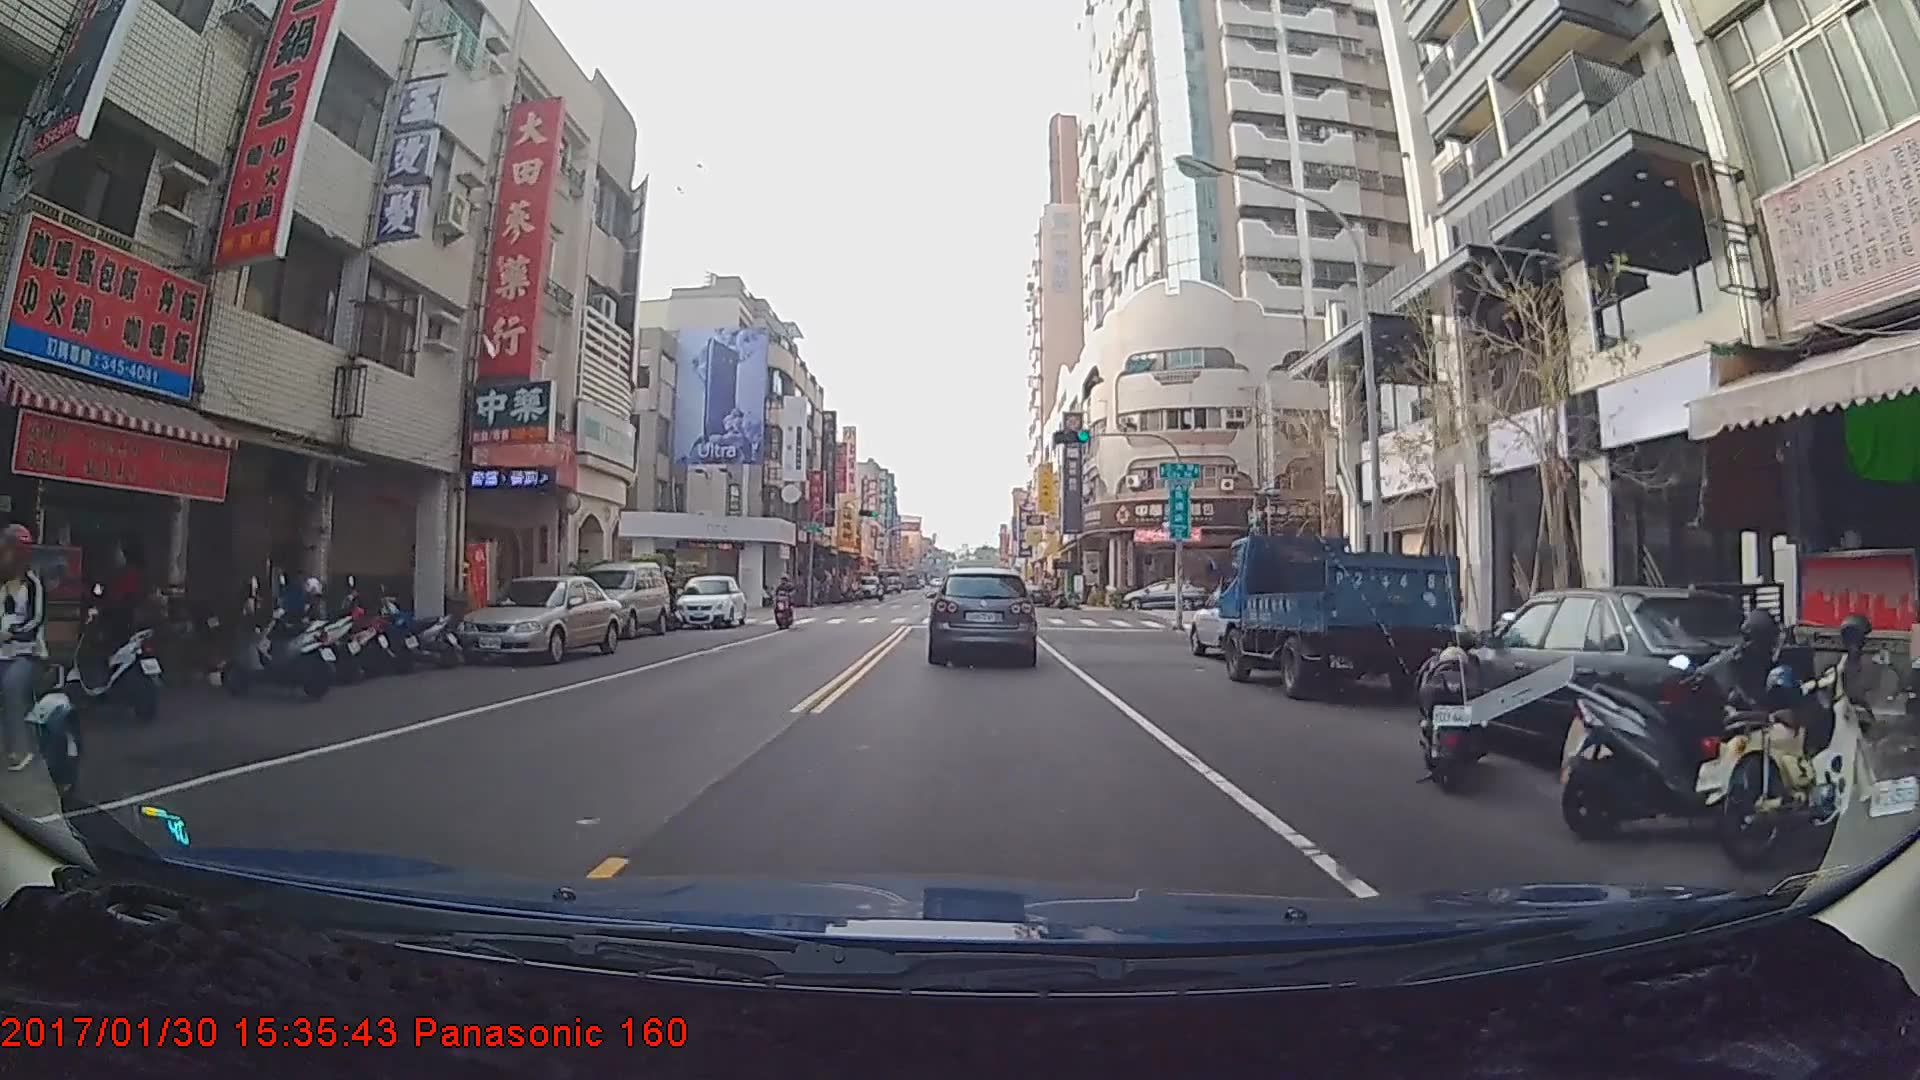rider: (1, 522, 83, 816), (775, 578, 797, 631)
vehicle: (1219, 533, 1463, 700), (453, 575, 618, 667), (1186, 579, 1315, 665), (929, 565, 1036, 666), (567, 559, 669, 642), (674, 573, 743, 627), (1122, 580, 1206, 612), (856, 575, 880, 600)
